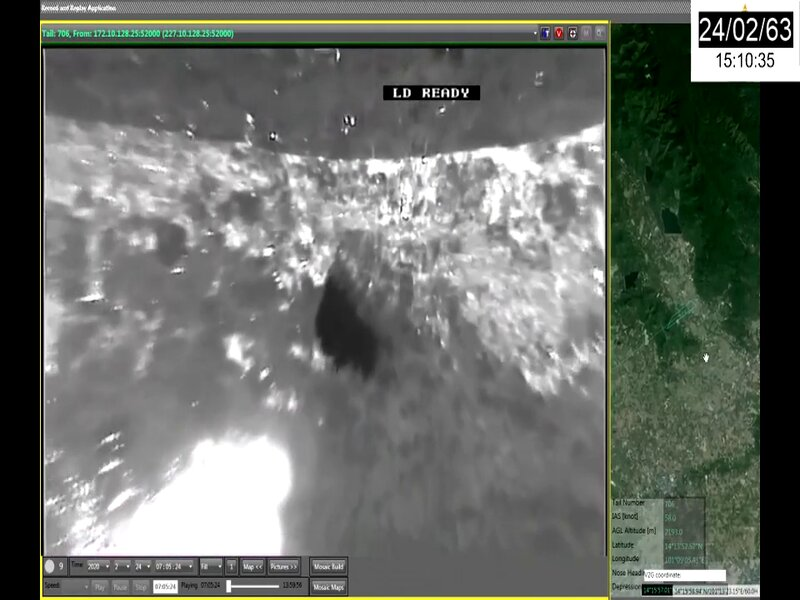Fire: (68, 437, 293, 555)
